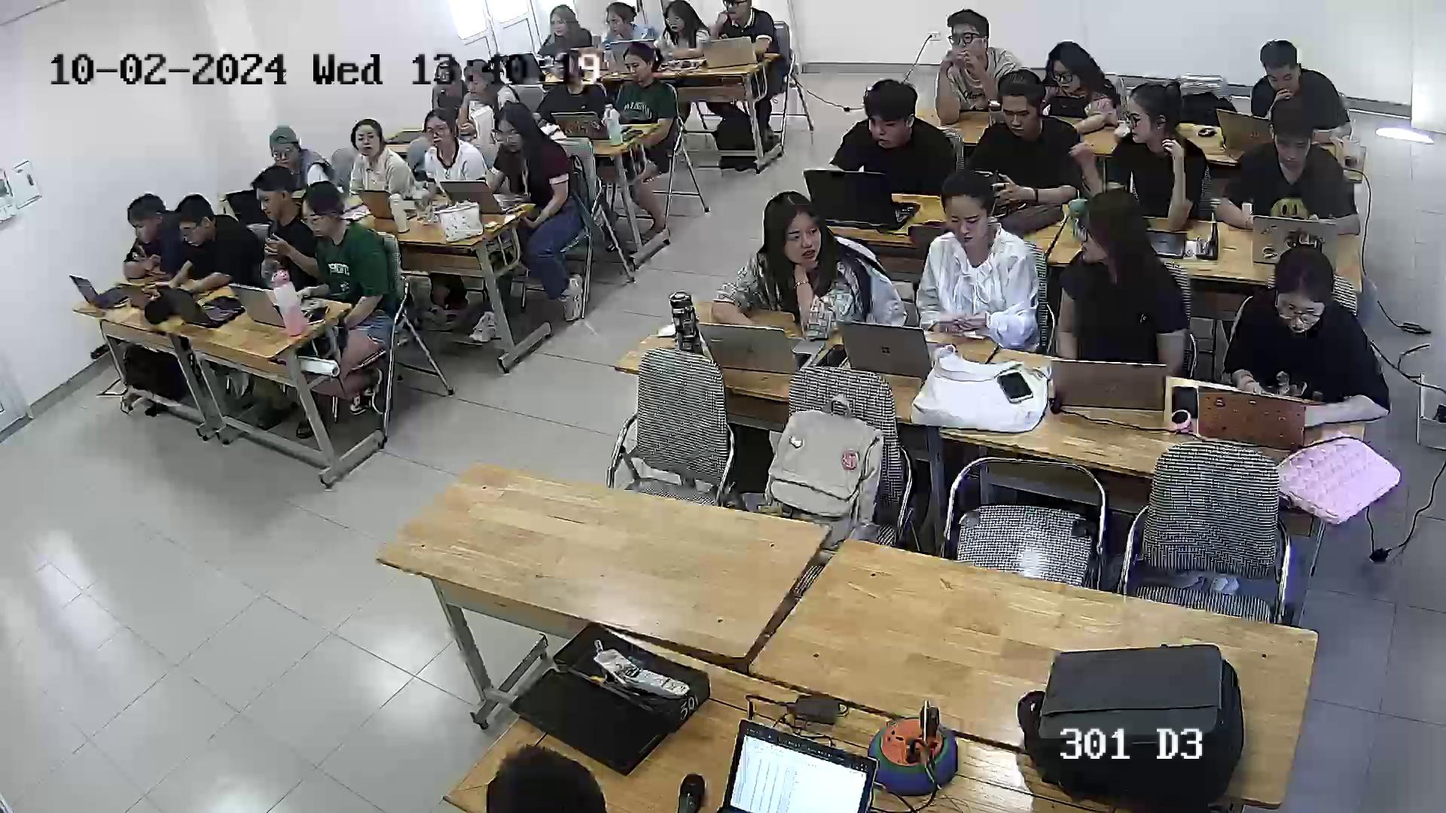Hand Under Table: (1158, 333, 1186, 378), (1059, 317, 1081, 365)
Look Around: (1066, 188, 1156, 290), (759, 193, 823, 267), (1122, 80, 1184, 146), (344, 115, 394, 165)
phone: (980, 166, 1017, 204), (1274, 209, 1308, 226)
